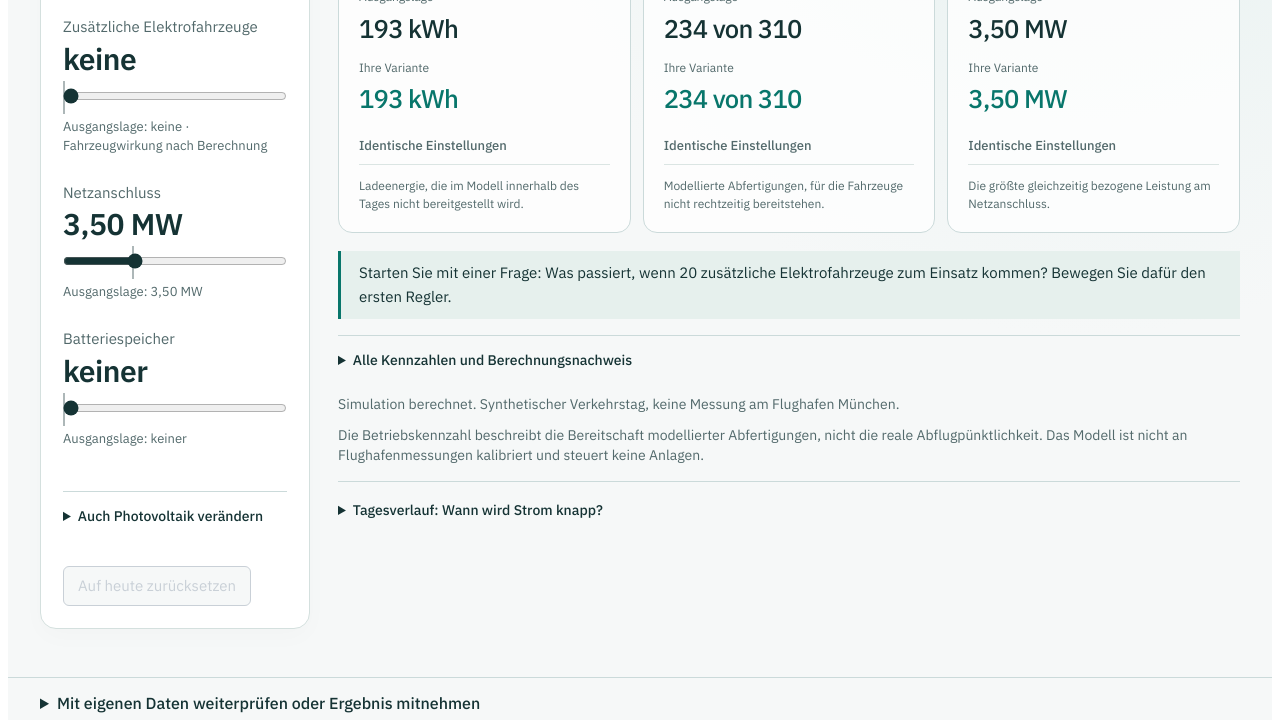
Arbeitsplatz › zeigt den Beispieltag, reagiert auf den Regler und kann zuruecksetzen
(page scrolled)
Click the heading "Alle Kennzahlen und Berechnungsnachweis": (492, 360) [353,351,632,369]
(page scrolled)
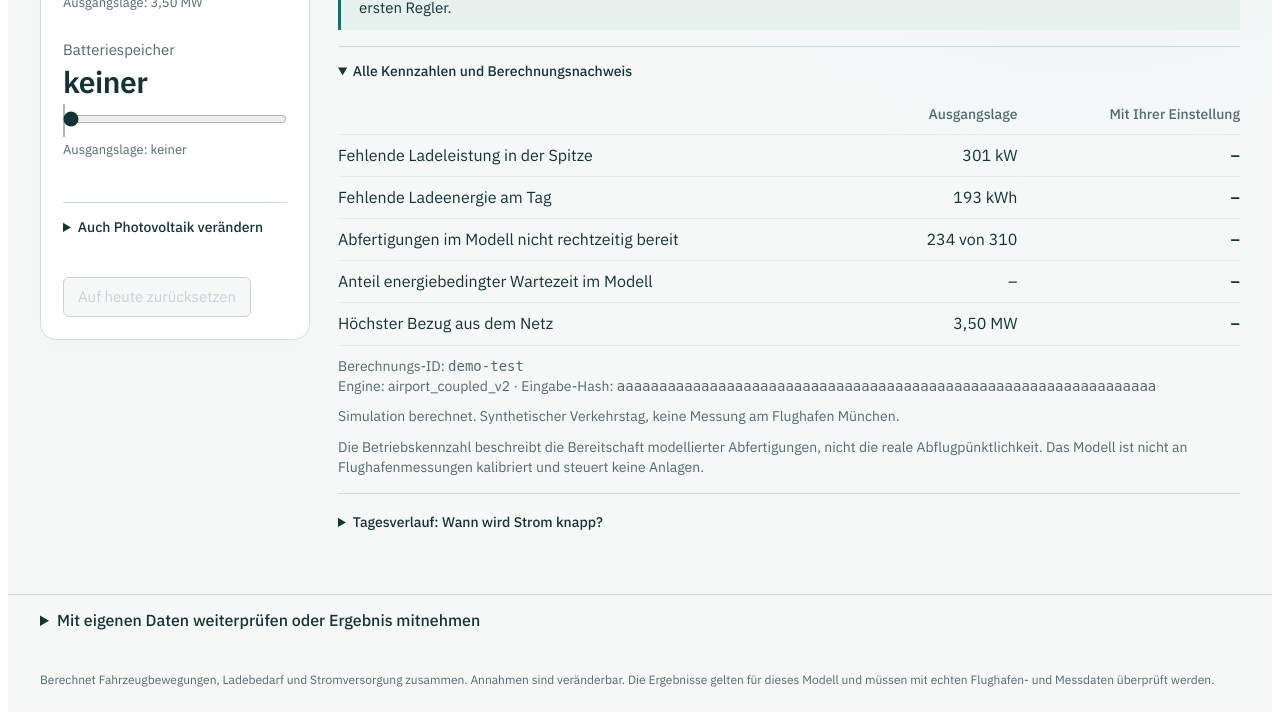
Click the heading "Tagesverlauf: Wann wird Strom knapp?": (478, 522) [353,513,603,531]
(page scrolled)
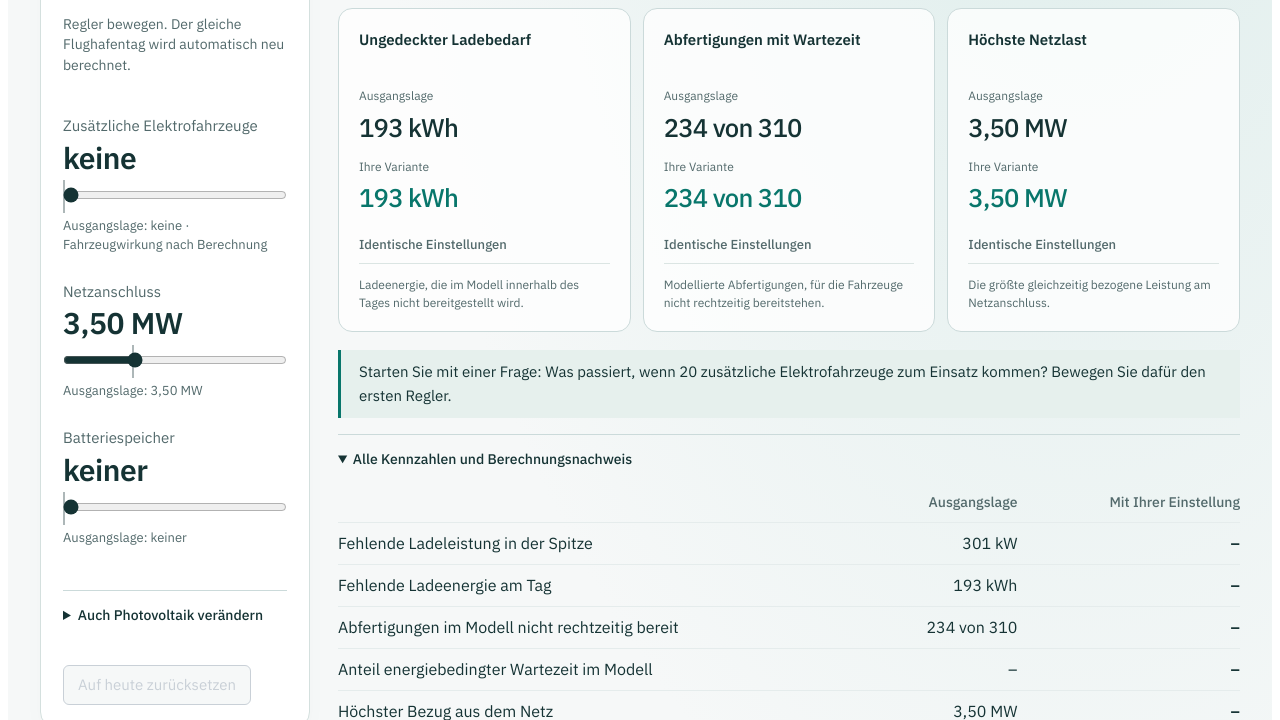
Set the slider named "Netzanschluss" to "6000": (215, 360) [63,352,287,368]
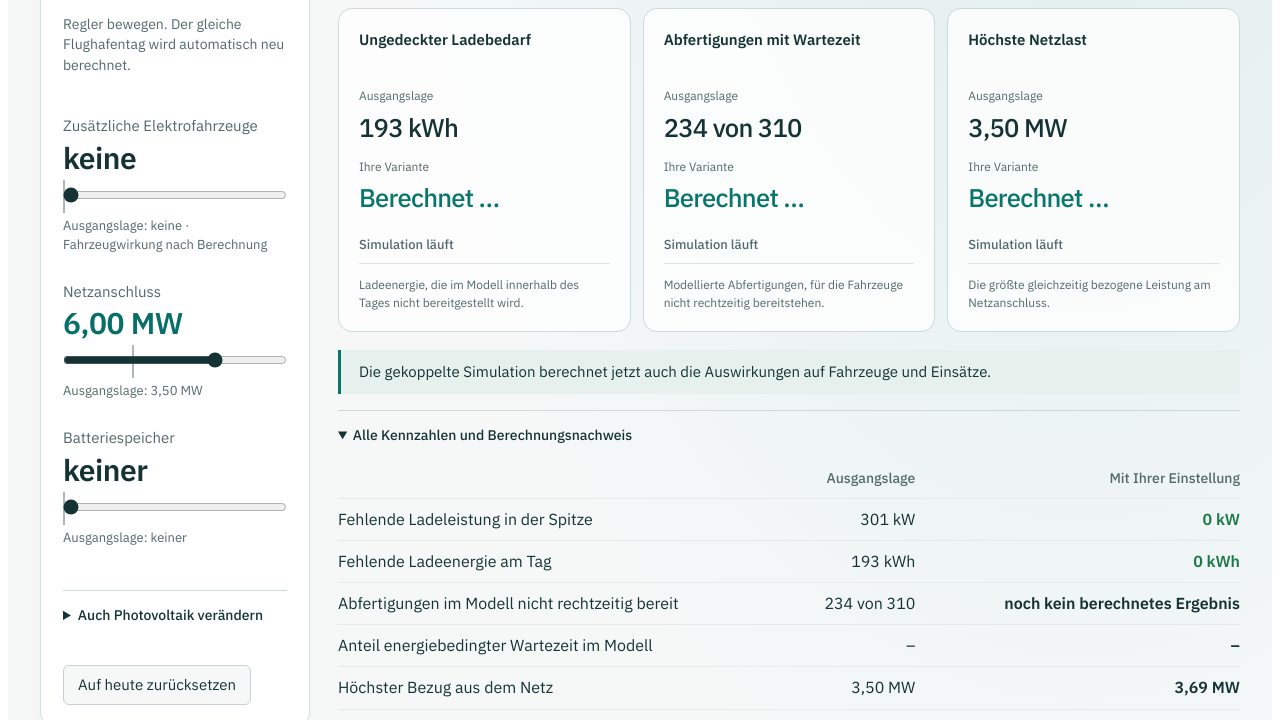
Click the button "Auf heute zurücksetzen": (157, 685) [63,665,251,705]
(page scrolled)
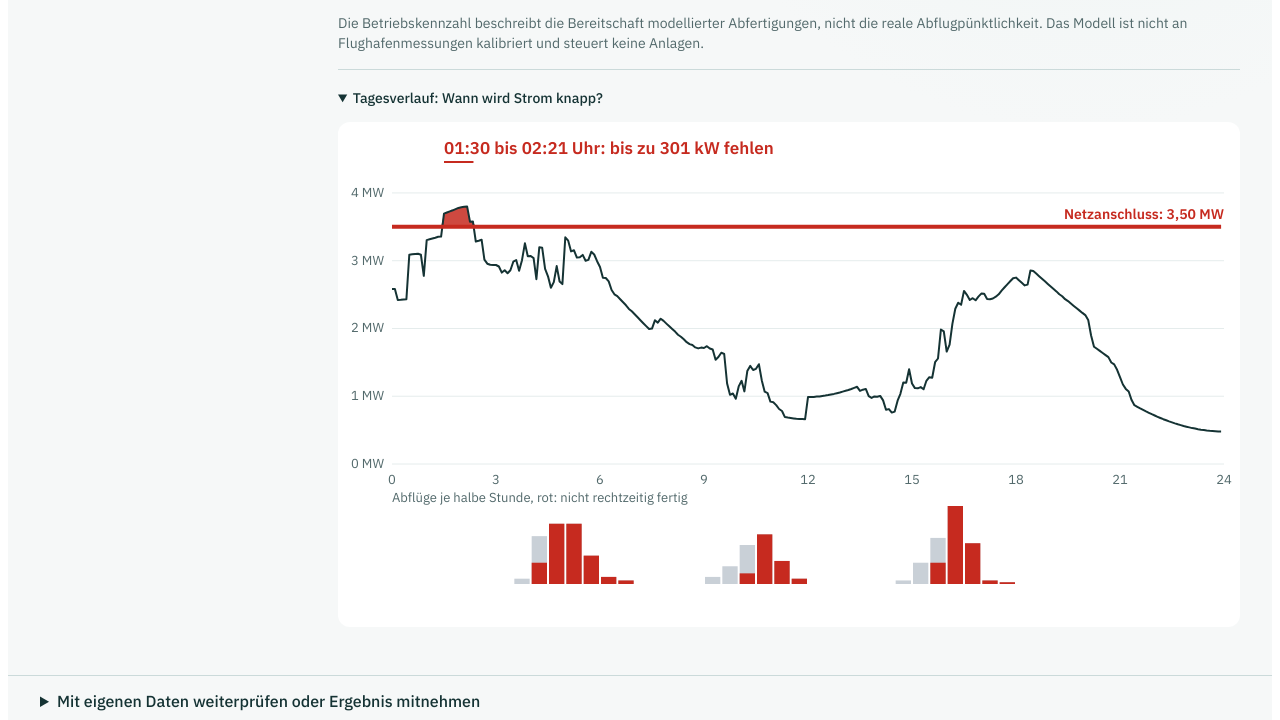
Result: the picture named "fehlen bis zu" is shown at [340,132,1240,588]
